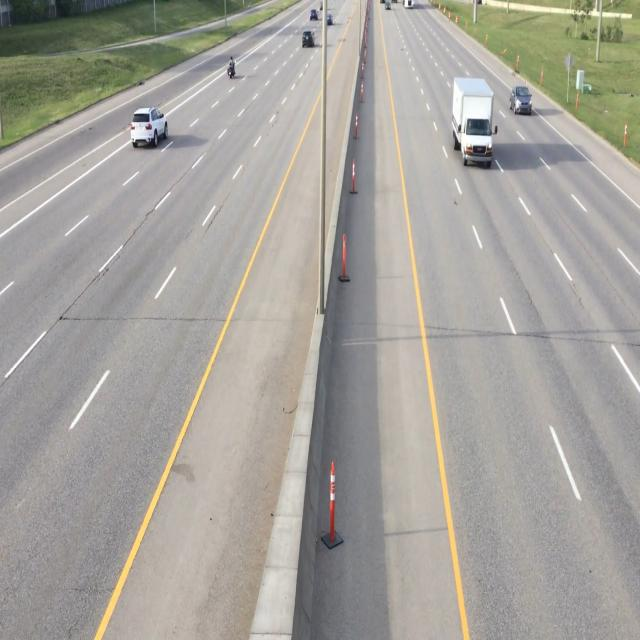Car: (448, 76, 496, 169), (129, 102, 168, 152), (508, 82, 532, 117), (300, 29, 314, 49)
